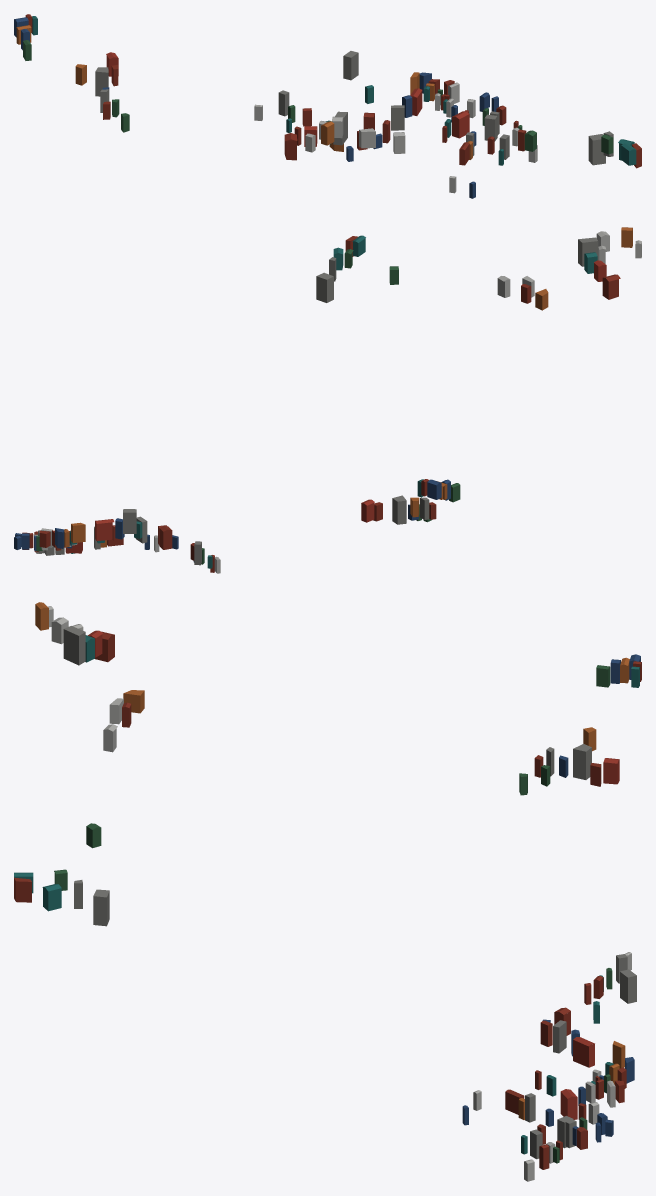
Rendered from near-16-54735-29741.ab2fd77d.glb.
3 views of the same model, one above another, from view 1: azimuth 30°, elevation 25°; view 2: azimuth 150°, elevation 25°; view 3: azimuth 270°, elevation 25° (orthographic). The views are drawn at different scales.
Bounding box in the file's own units: 586 × 341 × 571.
